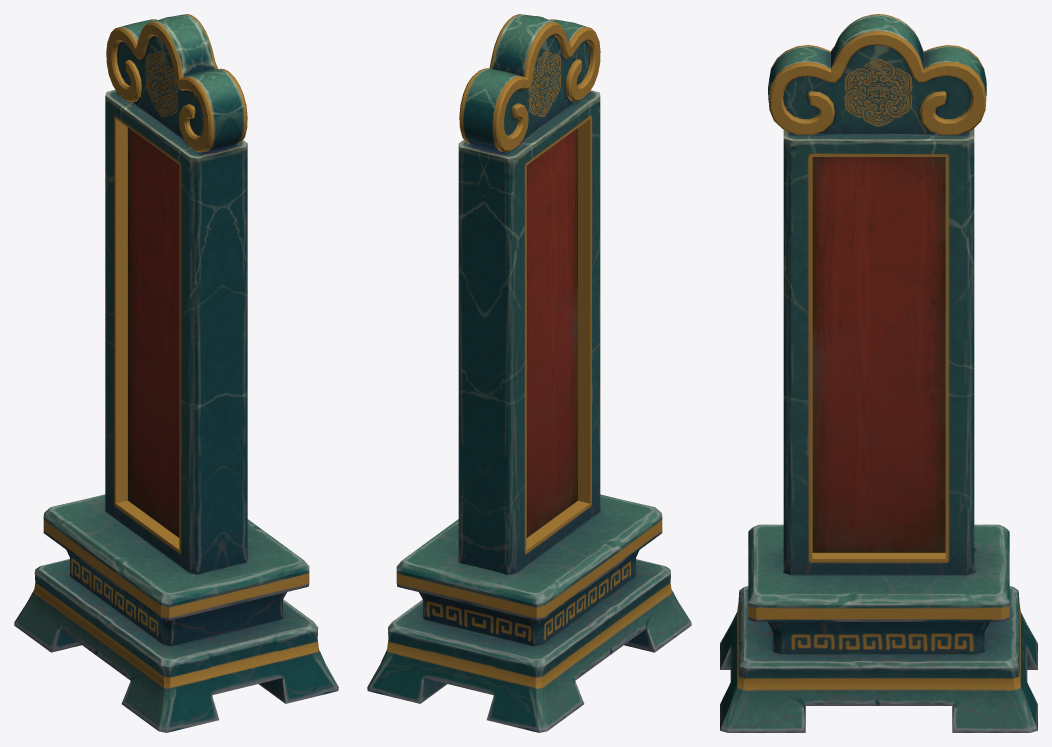
Rendered from SM_StoneTablet1.glb.
3 views of the same model, side by side, from view 1: azimuth 30°, elevation 25°; view 2: azimuth 150°, elevation 25°; view 3: azimuth 270°, elevation 25° (orthographic). The views are drawn at different scales.
Visible parts, largest first — view 1: SM_StoneTablet1_LOD0; view 2: SM_StoneTablet1_LOD0; view 3: SM_StoneTablet1_LOD0.
Part boxes in pixels (x1,y1,x2,y2): SM_StoneTablet1_LOD0: (14,14,338,732); SM_StoneTablet1_LOD0: (367,14,691,732); SM_StoneTablet1_LOD0: (720,14,1037,732).
Size of the model in its own units: 0.5263 by 1.78 by 0.7689.
Materials: 1 (1 with a texture image).
